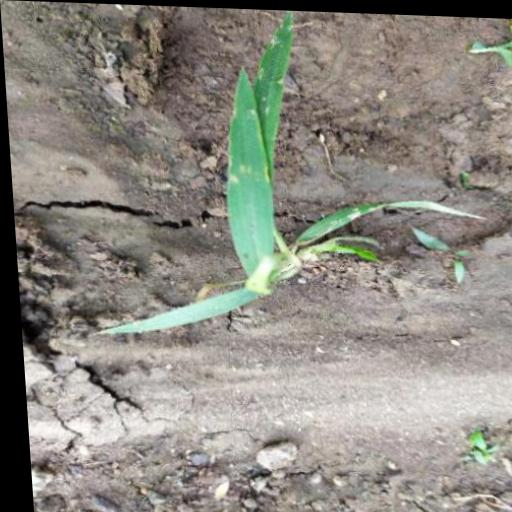weed: (64, 8, 491, 375)
